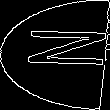N_E: (4, 34, 106, 76)
